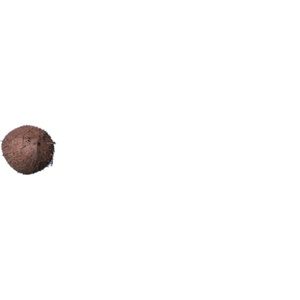coco: (2, 125, 55, 175)
